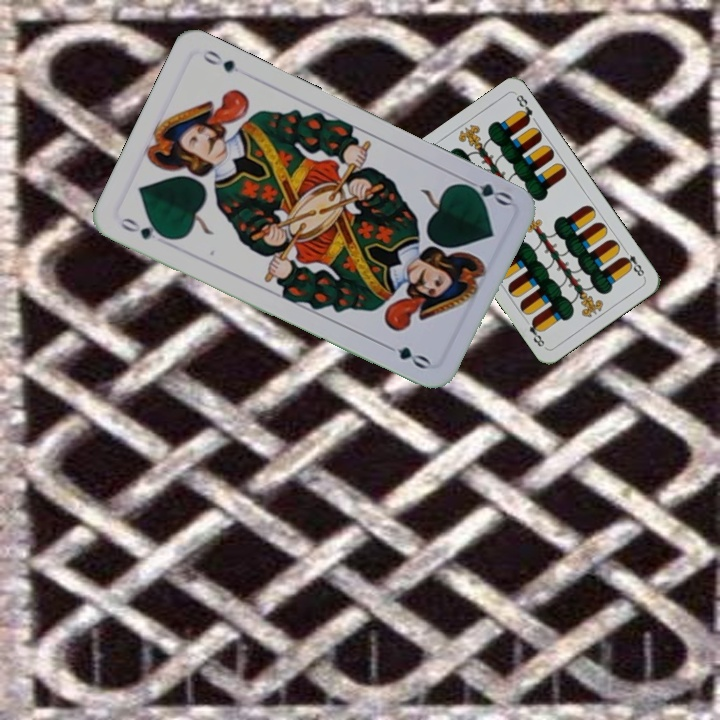E8: (618, 244, 647, 280)
GO: (456, 173, 515, 209), (116, 213, 173, 243)
